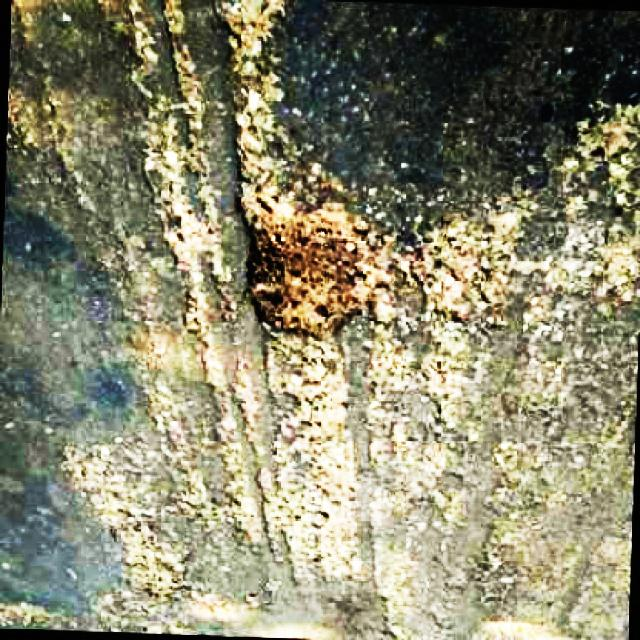pothole: (231, 174, 509, 340), (251, 365, 375, 589), (65, 441, 206, 614), (569, 72, 640, 303)
